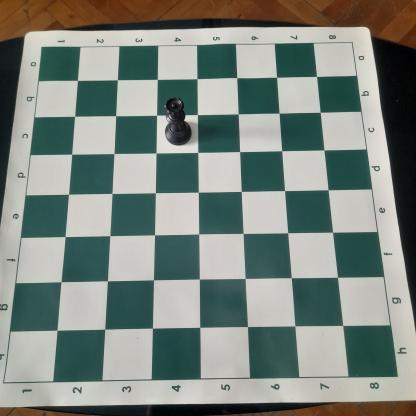black-queen: (163, 96, 194, 146)
